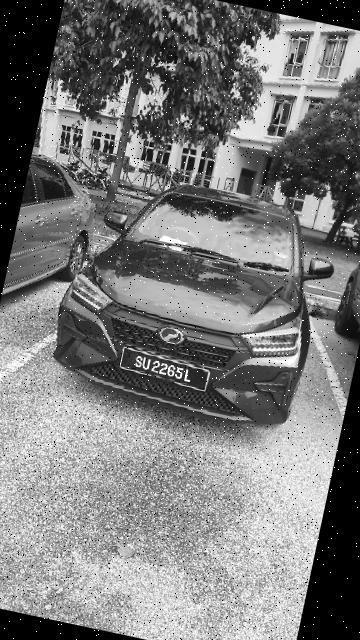License_Plate: (116, 344, 216, 397)
car: (35, 147, 353, 449)
